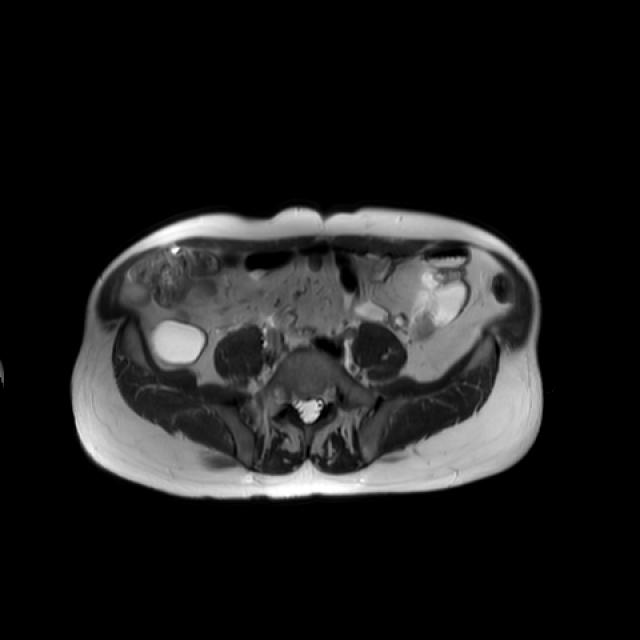sag: (150, 320, 208, 366)
